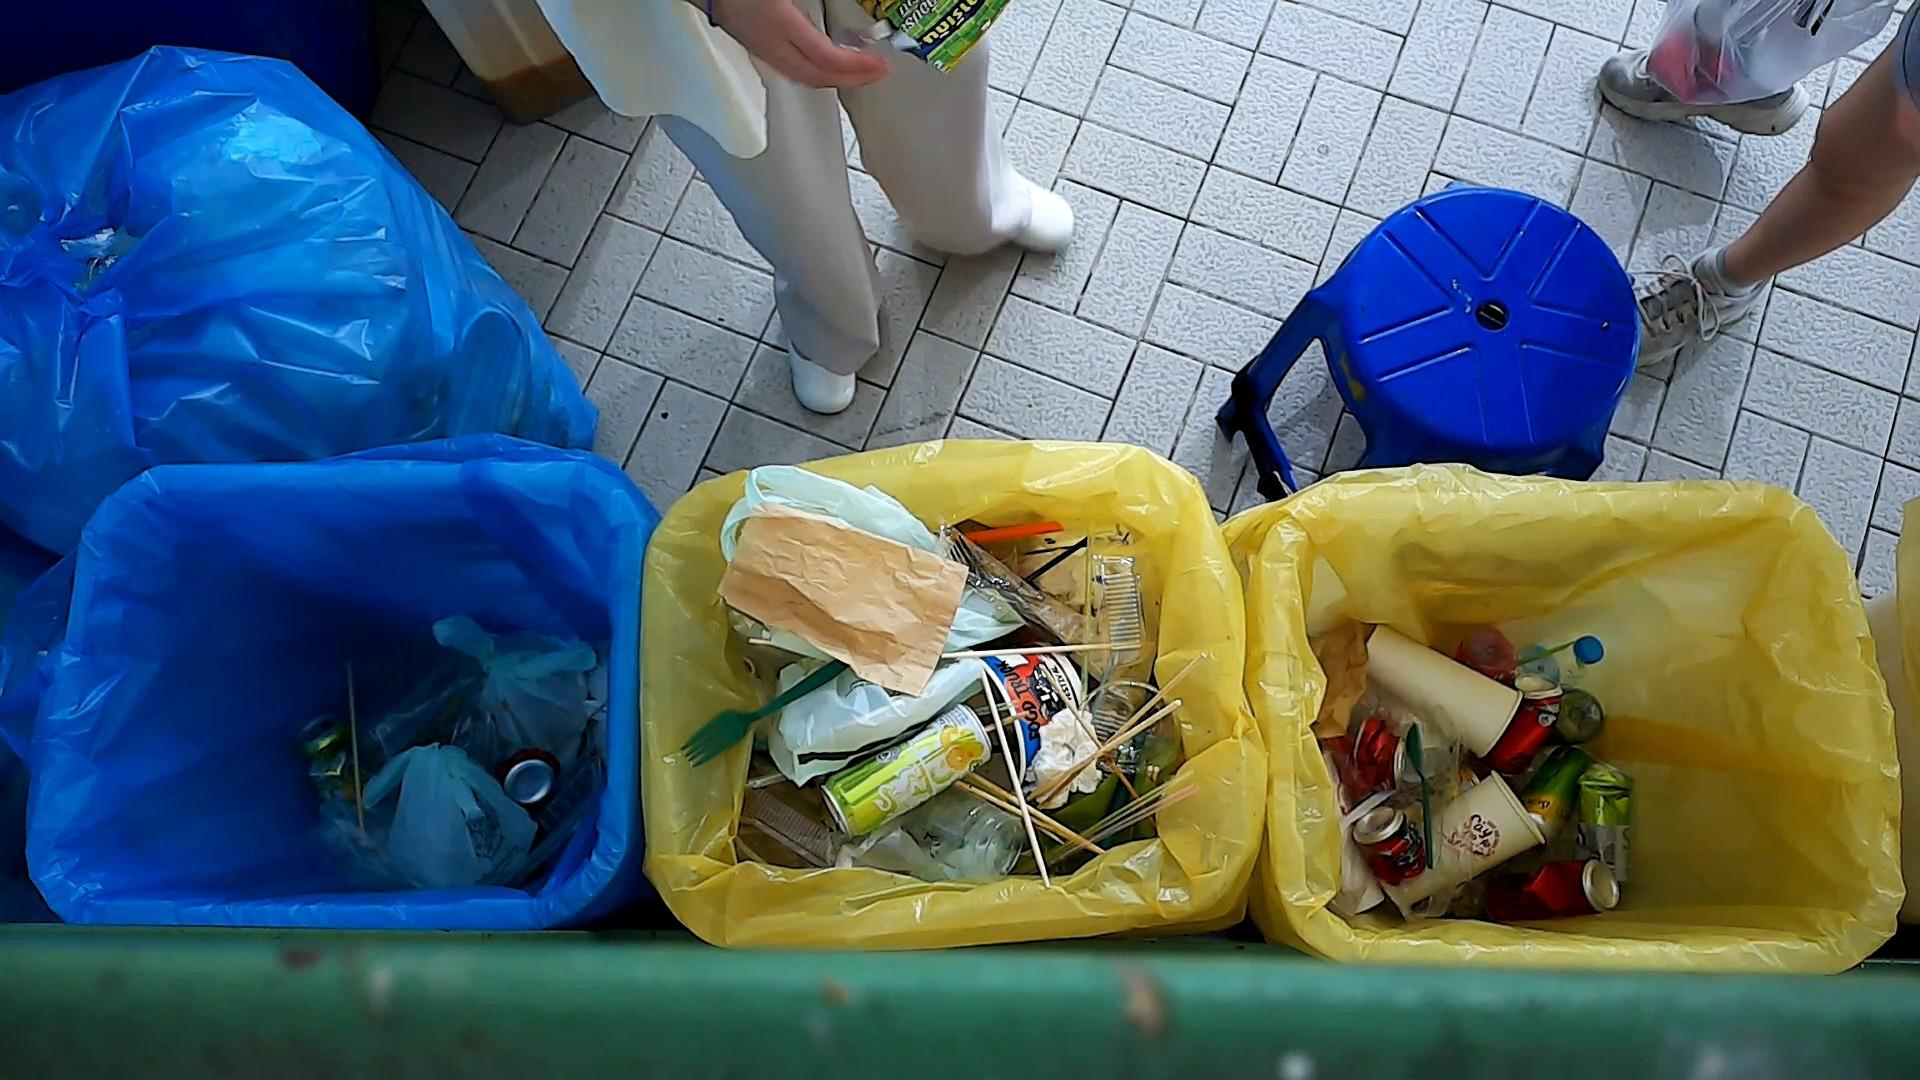can: (824, 698, 996, 841), (1486, 848, 1630, 927), (1473, 670, 1568, 782), (1565, 758, 1643, 894), (1515, 736, 1594, 857), (280, 700, 357, 820), (1353, 811, 1439, 901), (1340, 704, 1410, 791), (488, 742, 563, 807)
filled plastic bag: (717, 462, 1018, 657), (435, 592, 597, 812), (749, 651, 1001, 783), (360, 757, 560, 895)
food container: (956, 628, 1089, 790), (1073, 547, 1159, 675)
paper bag: (712, 480, 965, 716), (1311, 617, 1373, 746)
plastic bottle: (1538, 626, 1610, 696), (1548, 686, 1611, 750)
plastic cup: (909, 785, 1034, 894)
plastic cutlery: (676, 658, 848, 769), (943, 524, 1071, 661), (1404, 731, 1449, 884), (1340, 781, 1418, 840)
sticks: (1026, 642, 1204, 808), (985, 661, 1056, 890), (943, 766, 1110, 862), (901, 637, 1129, 676)
straw: (1011, 748, 1213, 885), (972, 516, 1085, 550), (1068, 542, 1091, 678)
tissue paper: (1029, 703, 1105, 808)
zero waste cup: (1353, 622, 1530, 766), (1377, 767, 1545, 909)
